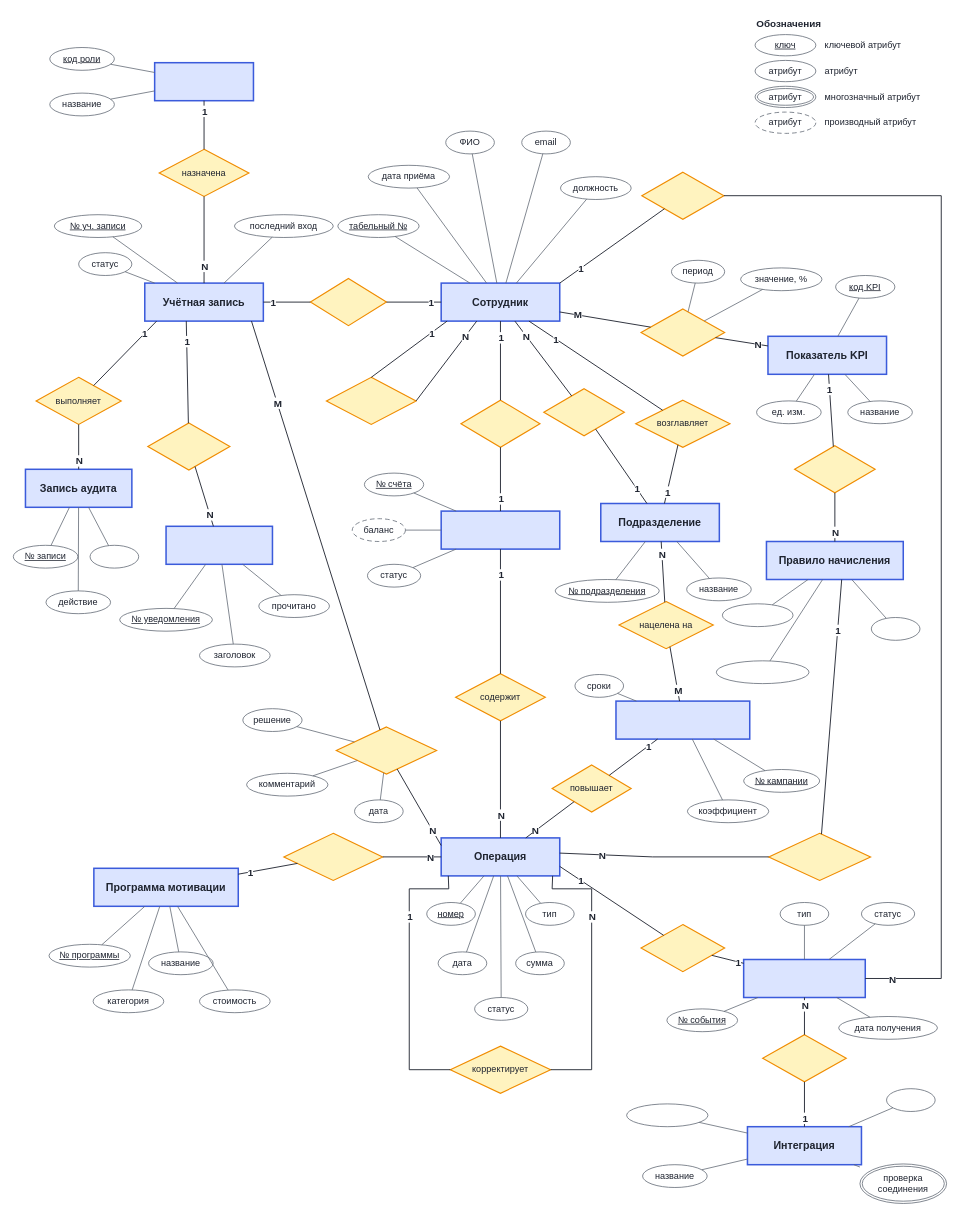
This 960x1217 diagram has some shape labels left out. The centre of each missing label's shape, as x and y in pixels:
"URL" goes at (910,1100).
"базовые баллы" goes at (762,672).
"Бизнес-событие" goes at (804,978).
"Бонусная кампания" goes at (682,719).
"Бонусный счёт" goes at (500,529).
"вес" goes at (895,628).
"вид системы" goes at (667,1115).
"включает" goes at (584,412).
"владеет" goes at (500,423).
"время" goes at (114,556).
"достигает" goes at (682,332).
"измеряет" goes at (834,469).
"имеет" goes at (348,302).
"обосновывает" goes at (819,856).
"оплачивается" goes at (333,856).
"получает" goes at (188,446).
"порождает" goes at (682,948).
"поставляет" goes at (804,1058).
"Роль" goes at (204,81).
"руководит" goes at (371,400).
"согласовывает" goes at (386,750).
"Уведомление" goes at (219,545).
"участвует" goes at (682,195).
"№ правила" goes at (757,615).
